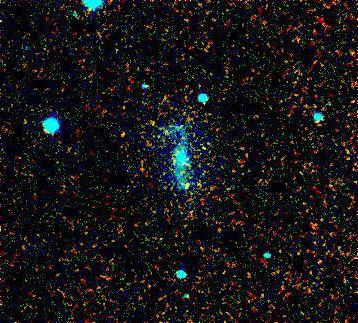star: (173, 170, 203, 200)
